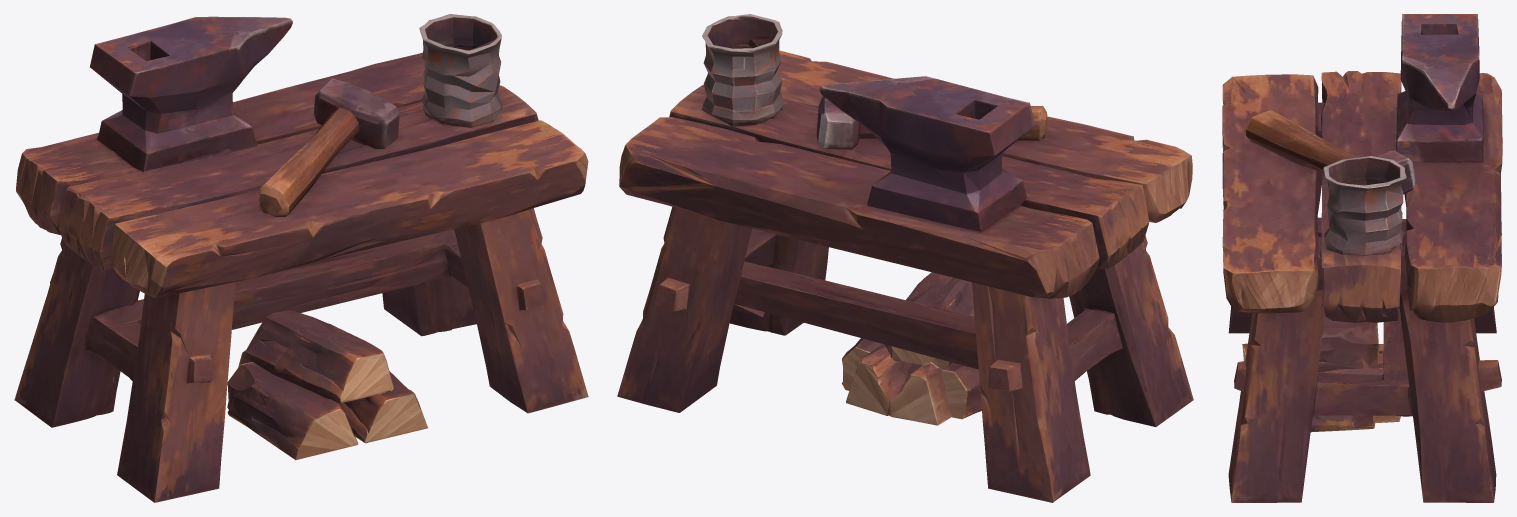
File: bench.glb
3 views of the same model, side by side, from view 1: azimuth 30°, elevation 25°; view 2: azimuth 150°, elevation 25°; view 3: azimuth 270°, elevation 25° (orthographic). The views are drawn at different scales.
Bounding box in the file's own units: 1.9 × 1.4 × 1.09.
1 material, 1 textured.
